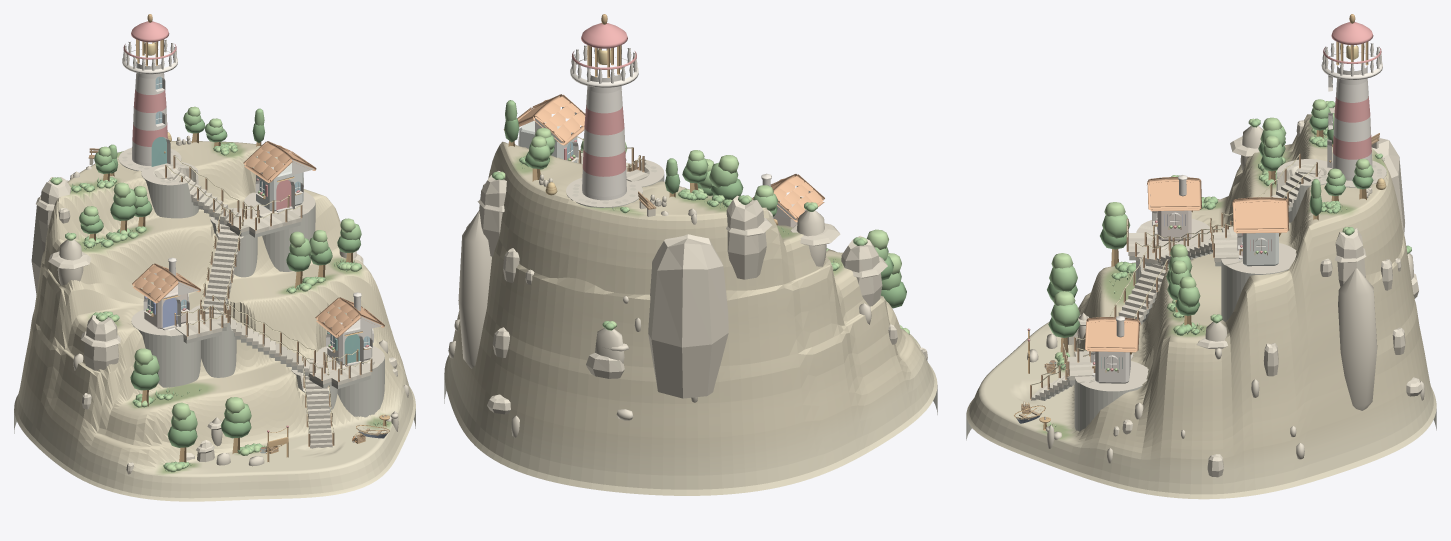
Rendered from phare.glb.
The picture shows the model from 3 angles, left to right: view 1: azimuth 30°, elevation 25°; view 2: azimuth 150°, elevation 25°; view 3: azimuth 270°, elevation 25°; orthographic projection. The views are drawn at different scales.
Parts seen in each view (by area): view 1: phare; view 2: phare; view 3: phare.
Boxes of the visible parts, x1=… form: phare: x1=14, y1=14, x2=415, y2=501; phare: x1=444, y1=14, x2=937, y2=495; phare: x1=966, y1=14, x2=1436, y2=499.
Bounding box in the file's own units: 22.97 × 24 × 24.57.
